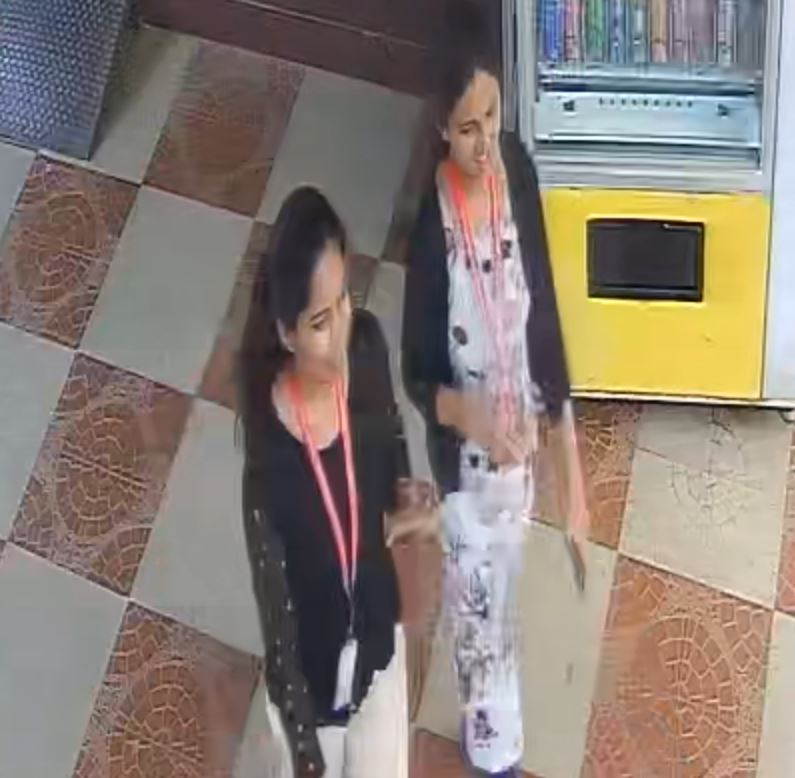not intruder: (398, 34, 581, 778), (215, 175, 431, 778)
